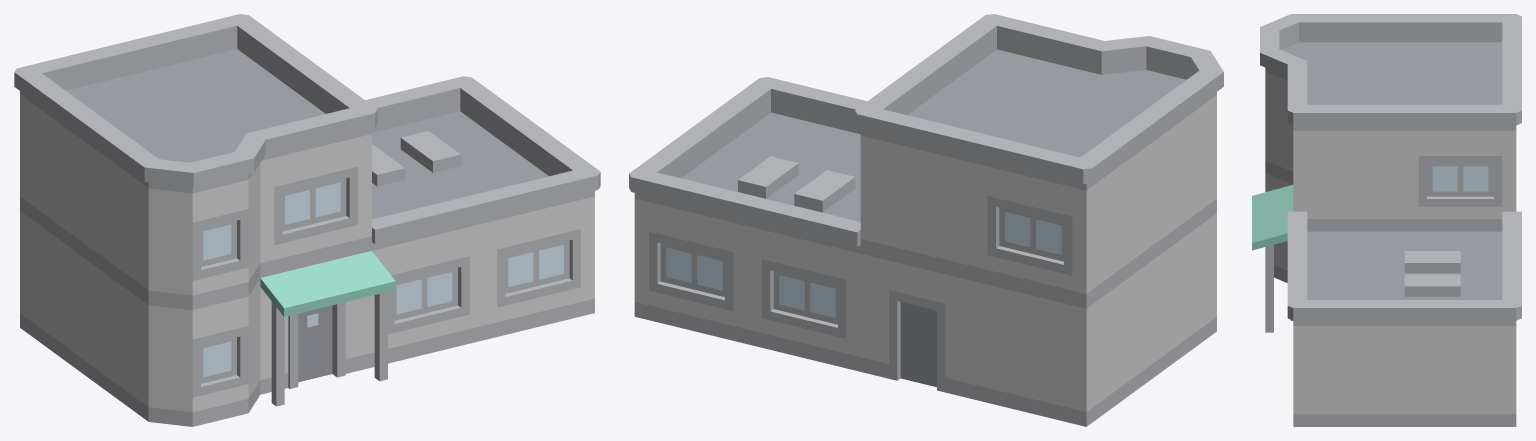
File: small_buildingE.glb
The picture shows the model from 3 angles, left to right: view 1: azimuth 30°, elevation 25°; view 2: azimuth 150°, elevation 25°; view 3: azimuth 270°, elevation 25°; orthographic projection. The views are drawn at different scales.
Visible parts, largest first — view 1: small_buildingE; view 2: small_buildingE; view 3: small_buildingE.
Boxes of the visible parts, x1,y1,x2,y2 form: small_buildingE: (14,14,600,426); small_buildingE: (629,14,1223,426); small_buildingE: (1252,14,1521,426).
Size of the model in its own units: 12.28 by 6.59 by 7.25.
